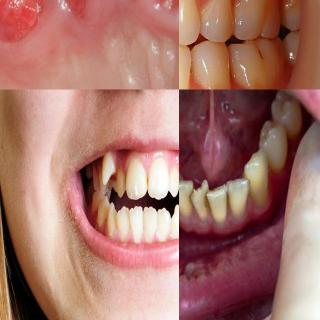Gum Swelling: (0, 0, 179, 66), (0, 0, 43, 30), (179, 212, 225, 230)
maligned: (228, 172, 252, 214), (189, 175, 209, 217), (207, 185, 230, 219), (96, 150, 115, 186), (179, 175, 195, 215), (111, 165, 127, 198), (167, 166, 179, 200), (174, 148, 179, 175)
stains: (282, 0, 308, 28), (219, 190, 236, 222), (185, 189, 198, 218), (201, 193, 214, 221)
